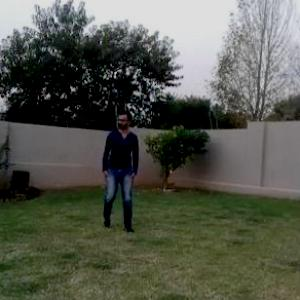follow: (98, 103, 144, 236)
